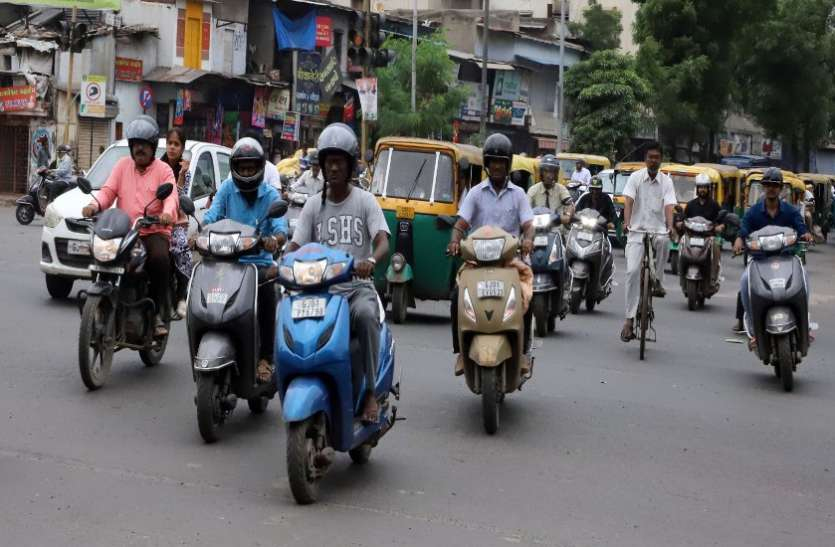two_wheeler: (252, 87, 420, 520), (173, 106, 290, 456), (435, 122, 550, 446), (78, 104, 198, 407), (731, 158, 819, 391), (671, 152, 736, 349), (567, 155, 626, 345)
